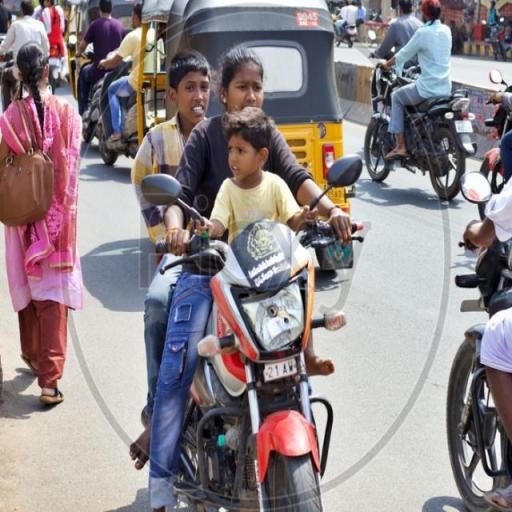bike: (437, 254, 512, 511), (372, 68, 478, 210), (89, 47, 135, 164)
tripple riding: (142, 49, 358, 512)
